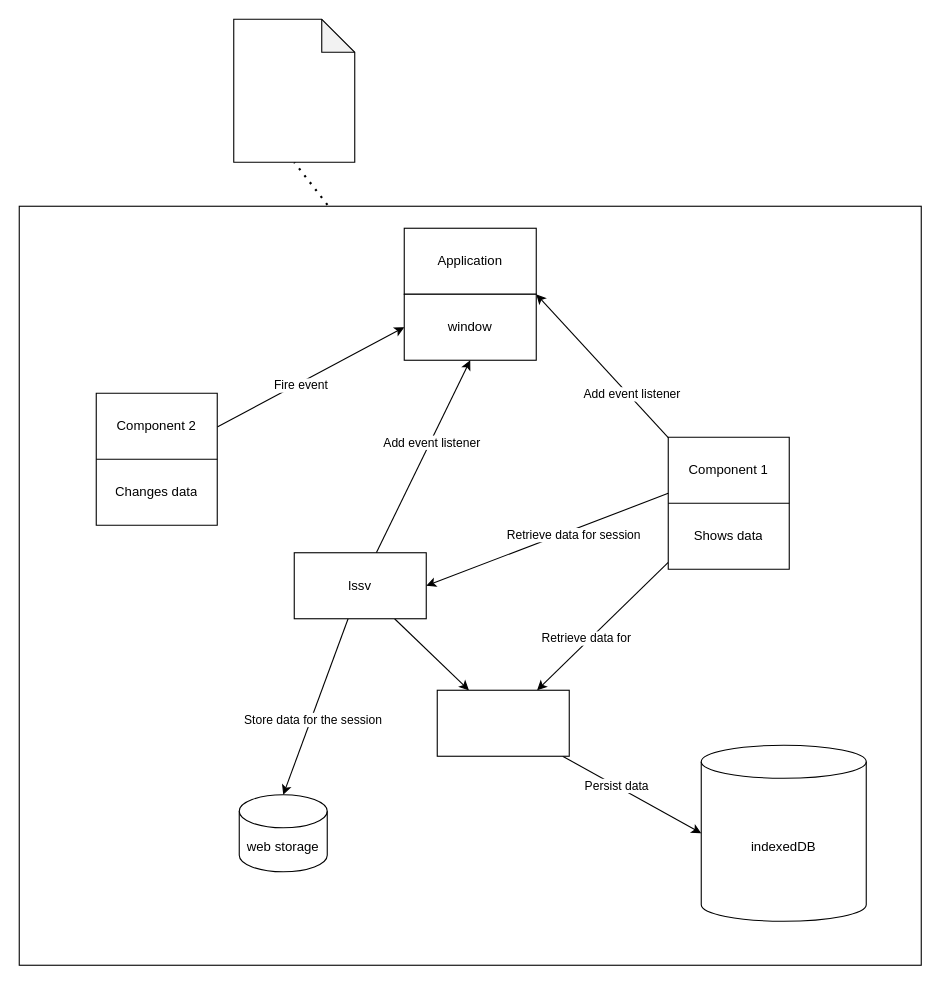
Some shapes in this 941 by 985 pixel diagram are drawn without their labels. The centre of each missing label's shape, as x and y in pixels:
"lssi" belongs at (x=502, y=722).
"The window object is accessible from everywhere in the app." belongs at (x=294, y=90).
